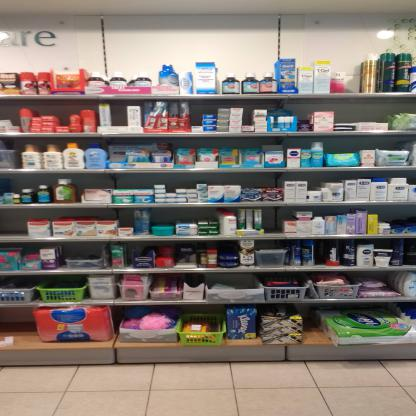Void: (340, 100, 386, 122), (2, 309, 34, 340), (86, 172, 152, 187), (32, 209, 122, 218), (1, 210, 26, 236), (304, 312, 324, 340), (37, 102, 73, 114), (366, 137, 402, 148), (390, 206, 414, 222), (207, 173, 244, 183), (252, 174, 280, 187), (166, 174, 196, 186), (265, 211, 280, 232), (329, 138, 355, 150), (71, 245, 102, 255), (180, 210, 214, 219), (114, 105, 126, 127), (19, 175, 45, 184), (152, 210, 169, 223), (191, 102, 201, 123), (312, 172, 321, 190)
